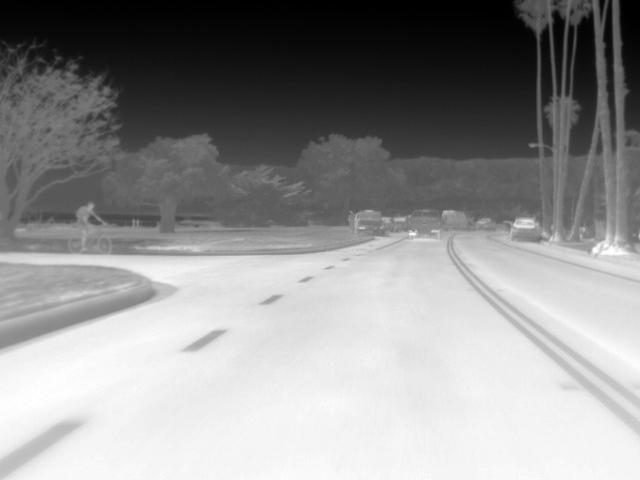car: (406, 207, 445, 239), (353, 210, 386, 238), (509, 218, 543, 244), (472, 218, 499, 234)
person: (72, 200, 107, 252)
